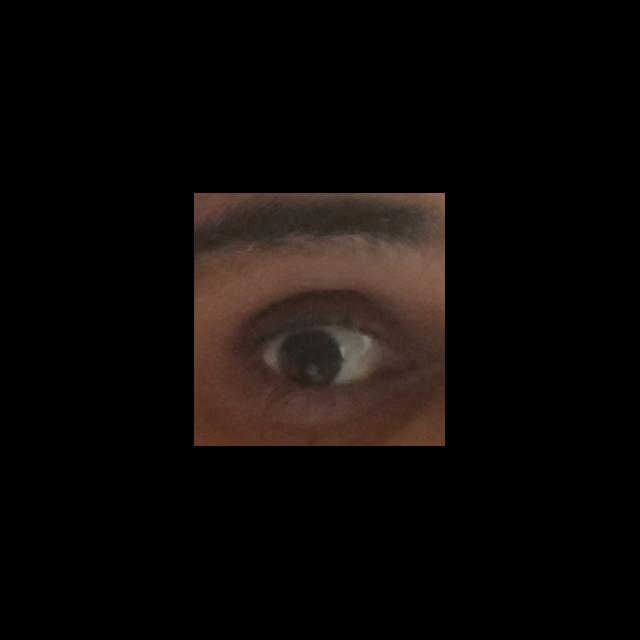eye: (259, 328, 386, 390)
iris: (278, 333, 343, 388)
